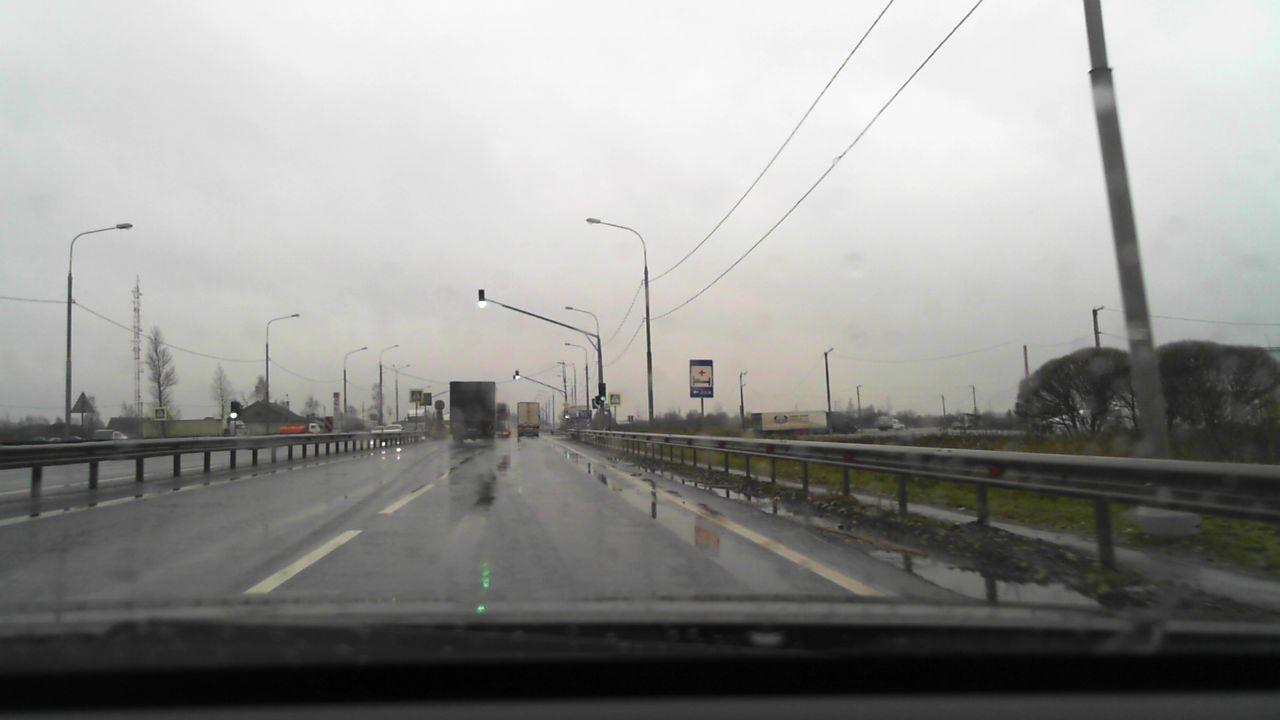7_2: (690, 360, 713, 397)
